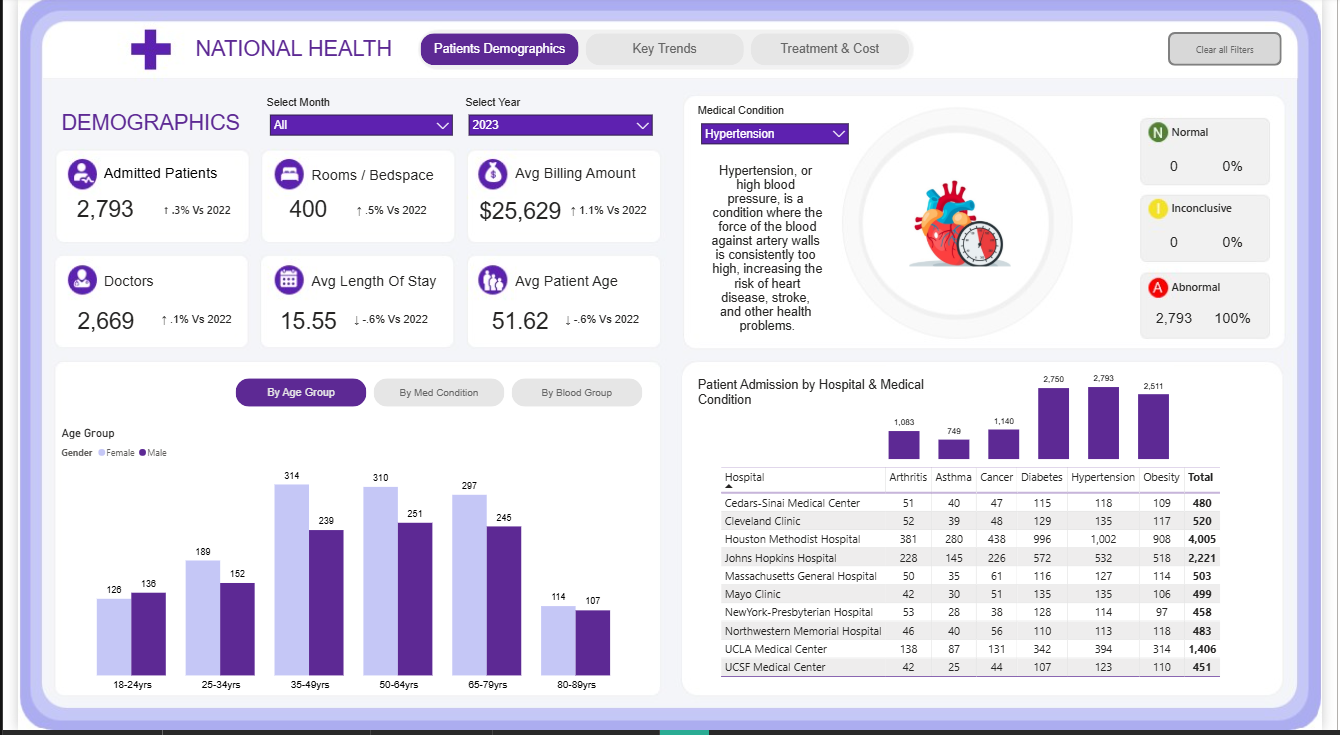

What the dashboard file says about the page in this screenshot:
{"tool":"powerbi","page":{"name":"Patients Demographics","canvas":[1920,1080],"ordinal":0},"visuals":[{"type":"card","fields":{"Values":["DAX.Admitted Patients"]},"box":[39.1,279.4,179.7,64.5],"z":0},{"type":"clusteredColumnChart","title":"Age Group","fields":{"Y":["DAX.Admitted Patients"],"Category":["HealthData.Age Group"],"Series":["HealthData.Gender"]},"box":[59.6,631.3,873.5,398.6],"z":0,"group":"g1"},{"type":"textbox","box":[121.1,242.2,193.4,56.7],"z":1000},{"type":"textbox","box":[427.8,244.2,193.4,56.7],"z":2000},{"type":"textbox","box":[121.1,400.5,193.4,56],"z":3000},{"type":"textbox","box":[427,401.2,209.8,55.2],"z":4000},{"type":"textbox","box":[726.7,400.5,193.4,56],"z":5000},{"type":"textbox","box":[726.7,242.2,208,56],"z":6000},{"type":"card","fields":{"Values":["DAX.Doctors"]},"box":[39.1,443.5,181.7,64.5],"z":7000},{"type":"card","fields":{"Values":["DAX.Avg LOS"]},"box":[336,443.5,181.7,64.5],"z":8000},{"type":"card","fields":{"Values":["DAX.Rooms"]},"box":[336,279.4,181.7,64.5],"z":9000},{"type":"card","fields":{"Values":["DAX.Avg Billing Amt"]},"box":[650.6,281.3,179.7,64.5],"z":10000},{"type":"card","fields":{"Values":["DAX.Average age"]},"box":[650.6,443.5,179.7,64.5],"z":11000},{"type":"card","fields":{"Values":["DAX.Adm YoY"]},"box":[191.4,292.6,145.4,46],"z":12000},{"type":"card","fields":{"Values":["DAX.LOS YoY"]},"box":[476.7,453.2,145,46],"z":13000},{"type":"card","fields":{"Values":["DAX.Doc YoY"]},"box":[191.4,452.8,143.6,46],"z":14000},{"type":"card","fields":{"Values":["DAX.Room YoY"]},"box":[476.7,292.6,147.2,46],"z":15000},{"type":"card","fields":{"Values":["DAX.Bill YoY"]},"box":[795.1,292.6,149.1,46],"z":16000},{"type":"card","fields":{"Values":["DAX.Age YoY"]},"box":[787.3,453.2,145,46],"z":17000},{"type":"slicer","title":"Select Year","fields":{"Values":["Calendar.Year"]},"box":[653.4,145.4,290.8,73.6],"z":18000},{"type":"slicer","title":"Select Month","fields":{"Values":["Calendar.Month Name"]},"box":[360.7,145.4,289,73.6],"z":19000},{"type":"slicer","title":"Medical Condition","fields":{"Values":["DimCondition.Medical Condition"]},"box":[995.7,158.3,237.4,73.6],"z":20000},{"type":"tableEx","fields":{"Values":["DimCondition.URL 2"]},"box":[1301.2,231.9,189.6,196.9],"z":21000},{"type":"card","fields":{"Values":["Min(DimCondition.Description)"]},"box":[1010.4,219,185.9,279.8],"z":22000},{"type":"card","fields":{"Values":["DAX.Normal Results"]},"box":[1652.8,219,99.4,60.7],"z":23000},{"type":"card","fields":{"Values":["DAX.Normal Result %"]},"box":[1752.2,219,73.6,60.7],"z":24000},{"type":"card","fields":{"Values":["DAX.Inconclusive %"]},"box":[1752.2,331.3,73.6,60.7],"z":25000},{"type":"card","fields":{"Values":["DAX.Inconclusive Results"]},"box":[1652.8,331.3,99.4,60.7],"z":26000},{"type":"card","fields":{"Values":["DAX.AbnormalR %"]},"box":[1752.2,443.6,73.6,60.7],"z":27000},{"type":"card","fields":{"Values":["DAX.Abnormal Results"]},"box":[1652.8,443.6,99.4,60.7],"z":28000},{"type":"textbox","box":[1693.3,182.2,132.5,36.8],"z":29000},{"type":"textbox","box":[1693.3,294.5,132.5,44.2],"z":30000},{"type":"textbox","box":[1693.3,410.4,132.5,36.8],"z":31000},{"type":"textbox","box":[58.9,162,277.9,47.9],"z":32000},{"type":"textbox","box":[242.9,53.4,325.8,47.9],"z":33000},{"type":"group","id":"g1","title":"DEMOGRAPHICS","box":[57.1,631.3,876.1,399.4],"z":34000},{"type":"bookmarkNavigator","box":[320.2,561.4,600,42.3],"z":35000},{"type":"pivotTable","fields":{"Rows":["HealthData.Hospital"],"Columns":["DimCondition.Medical Condition"],"Values":["DAX.Admitted Patients"]},"box":[1030.7,686.5,758.3,323.9],"z":36000},{"type":"clusteredColumnChart","fields":{"Y":["DAX.Admitted Patients"],"Category":["DimCondition.Medical Condition"]},"box":[1277.3,541.1,425.2,145.4],"z":37000},{"type":"pageNavigator","box":[592.6,53.4,719.6,47.9],"z":38000},{"type":"actionButton","box":[1693.3,51.5,167.5,49.7],"z":39000},{"type":"textbox","box":[995.7,555.8,414.1,58.9],"z":39001}]}

Visuals, with their boxes in screenshot pixels (x1, y1, x2, y2), scaled from the page's 1920x1080 canvas onto the 1340x735 screenshot:
card - DAX.Admitted Patients: (left=27, top=190, right=153, bottom=234)
"Age Group" clusteredColumnChart: (left=42, top=430, right=651, bottom=701)
textbox: (left=85, top=165, right=219, bottom=203)
textbox: (left=299, top=166, right=434, bottom=205)
textbox: (left=85, top=273, right=219, bottom=311)
textbox: (left=298, top=273, right=444, bottom=311)
textbox: (left=507, top=273, right=642, bottom=311)
textbox: (left=507, top=165, right=652, bottom=203)
card - DAX.Doctors: (left=27, top=302, right=154, bottom=346)
card - DAX.Avg LOS: (left=234, top=302, right=361, bottom=346)
card - DAX.Rooms: (left=234, top=190, right=361, bottom=234)
card - DAX.Avg Billing Amt: (left=454, top=191, right=579, bottom=235)
card - DAX.Average age: (left=454, top=302, right=579, bottom=346)
card - DAX.Adm YoY: (left=134, top=199, right=235, bottom=230)
card - DAX.LOS YoY: (left=333, top=308, right=434, bottom=340)
card - DAX.Doc YoY: (left=134, top=308, right=234, bottom=339)
card - DAX.Room YoY: (left=333, top=199, right=435, bottom=230)
card - DAX.Bill YoY: (left=555, top=199, right=659, bottom=230)
card - DAX.Age YoY: (left=549, top=308, right=651, bottom=340)
"Select Year" slicer: (left=456, top=99, right=659, bottom=149)
"Select Month" slicer: (left=252, top=99, right=453, bottom=149)
"Medical Condition" slicer: (left=695, top=108, right=861, bottom=158)
tableEx - DimCondition.URL 2: (left=908, top=158, right=1040, bottom=292)
card - Min(DimCondition.Description): (left=705, top=149, right=835, bottom=339)
card - DAX.Normal Results: (left=1154, top=149, right=1223, bottom=190)
card - DAX.Normal Result %: (left=1223, top=149, right=1274, bottom=190)
card - DAX.Inconclusive %: (left=1223, top=225, right=1274, bottom=267)
card - DAX.Inconclusive Results: (left=1154, top=225, right=1223, bottom=267)
card - DAX.AbnormalR %: (left=1223, top=302, right=1274, bottom=343)
card - DAX.Abnormal Results: (left=1154, top=302, right=1223, bottom=343)
textbox: (left=1182, top=124, right=1274, bottom=149)
textbox: (left=1182, top=200, right=1274, bottom=231)
textbox: (left=1182, top=279, right=1274, bottom=304)
textbox: (left=41, top=110, right=235, bottom=143)
textbox: (left=170, top=36, right=397, bottom=69)
"DEMOGRAPHICS" group: (left=40, top=430, right=651, bottom=701)
bookmarkNavigator: (left=223, top=382, right=642, bottom=411)
pivotTable - HealthData.Hospital x DimCondition.Medical Condition: (left=719, top=467, right=1249, bottom=688)
clusteredColumnChart - DAX.Admitted Patients x DimCondition.Medical Condition: (left=891, top=368, right=1188, bottom=467)
pageNavigator: (left=414, top=36, right=916, bottom=69)
actionButton: (left=1182, top=35, right=1299, bottom=69)
textbox: (left=695, top=378, right=984, bottom=418)
